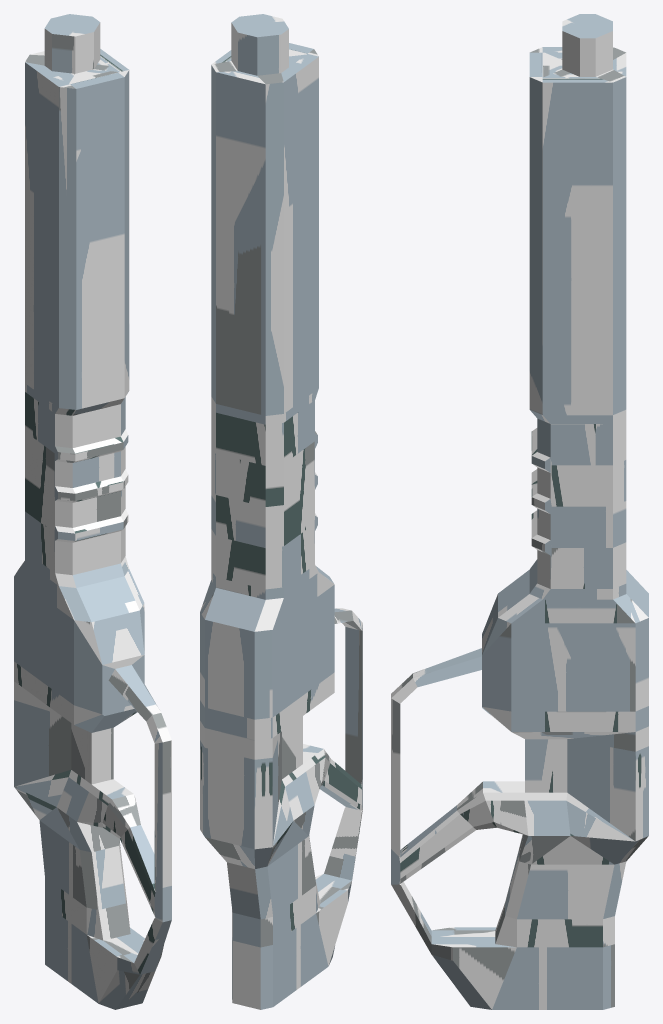
Rendered from gameGun 1.fbx.
3 renders of one model, left to right at view 1: azimuth 30°, elevation 25°; view 2: azimuth 150°, elevation 25°; view 3: azimuth 270°, elevation 25°, orthographic. The views are drawn at different scales.
Visible parts, largest first — view 1: Cube; view 2: Cube; view 3: Cube.
Part boxes in pixels (x1,y1,x2,y2): Cube: (14,14,171,1009); Cube: (200,14,362,1009); Cube: (391,14,648,1009).
Size of the model in its own units: 200 by 2551 by 612.
